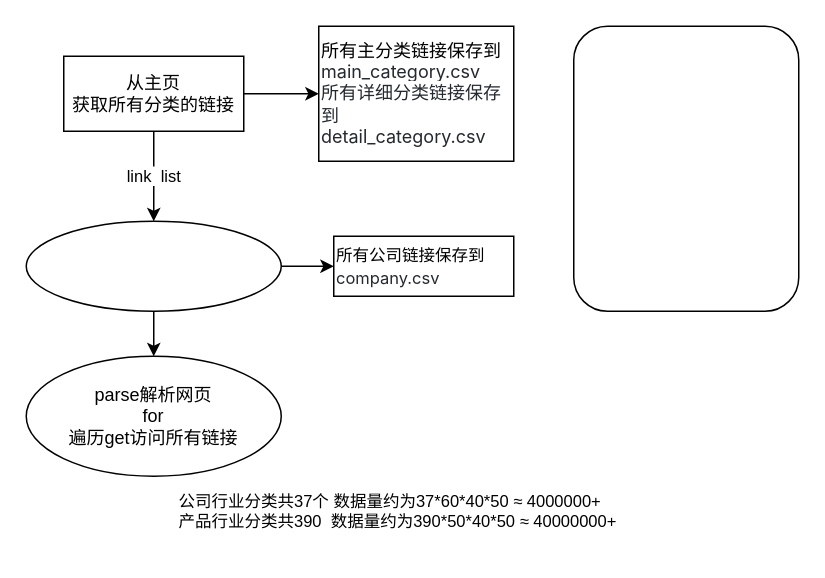
This 825x578 diagram has some shape labels left out. The box of each missing label's shape, as (x1, y1, x2, y2) in pixels:
For 循环遍历每一行业 获得每行业中所有公司链接 两层循环（页码和详情）: (25, 220, 281, 311)
返回值数据结构： {行业分类：[ ‘公司’:..., '详情..' ] 行业分类：[ ‘公司’:..., '详情..' ] }: (572, 25, 799, 311)
